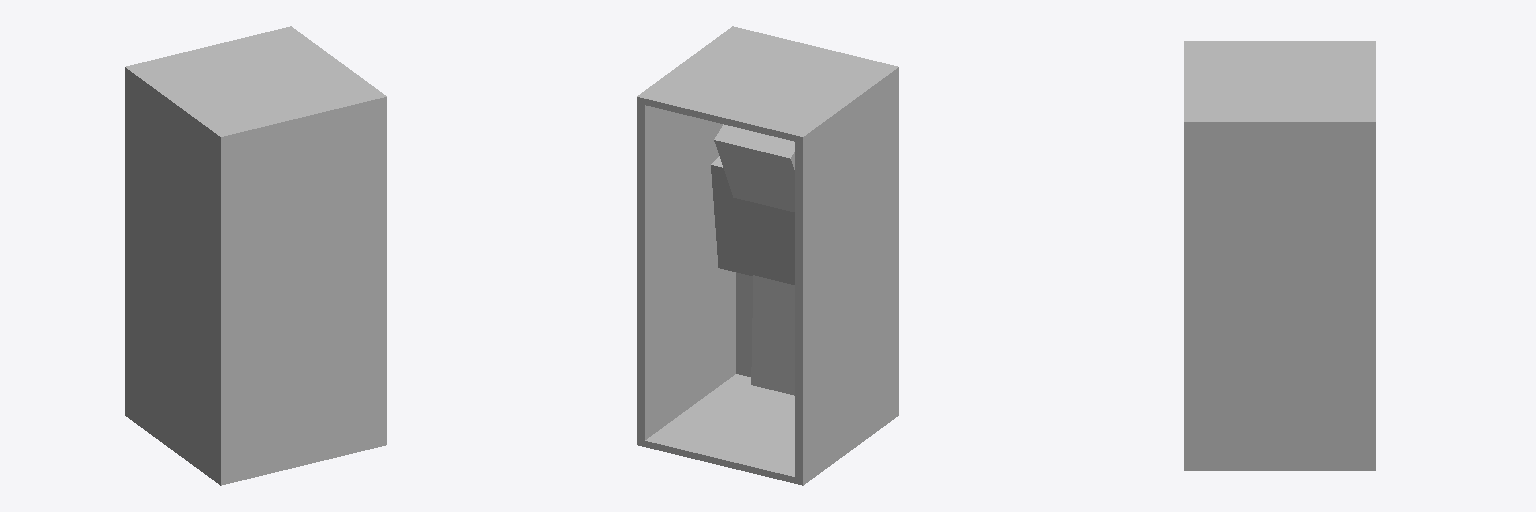
File: suitlocker.obj
The picture shows the model from 3 angles: view 1: azimuth 30°, elevation 25°; view 2: azimuth 150°, elevation 25°; view 3: azimuth 270°, elevation 25°; orthographic projection.
Parts seen in each view (by area): view 1: Player; view 2: Player; view 3: Player.
Boxes of the visible parts, <box> form: Player: <box>125,26,386,485</box>; Player: <box>637,26,898,485</box>; Player: <box>1184,41,1375,470</box>.
Size of the model in its own units: 1 by 2 by 1.